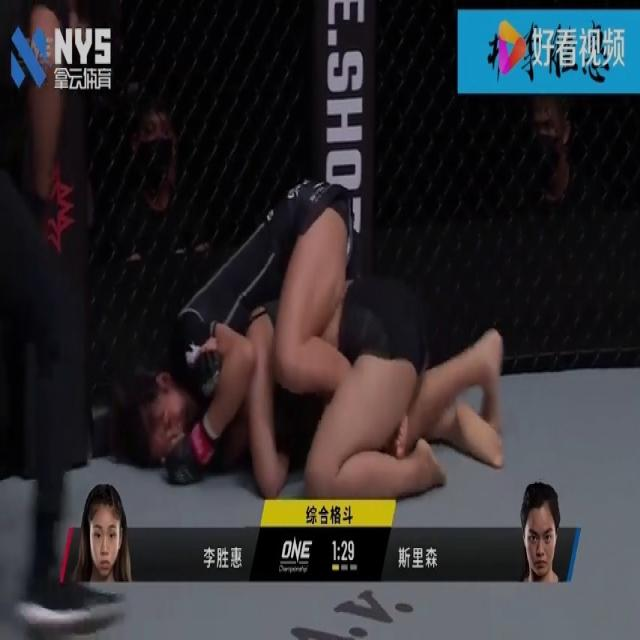fight: (140, 143, 518, 526)
